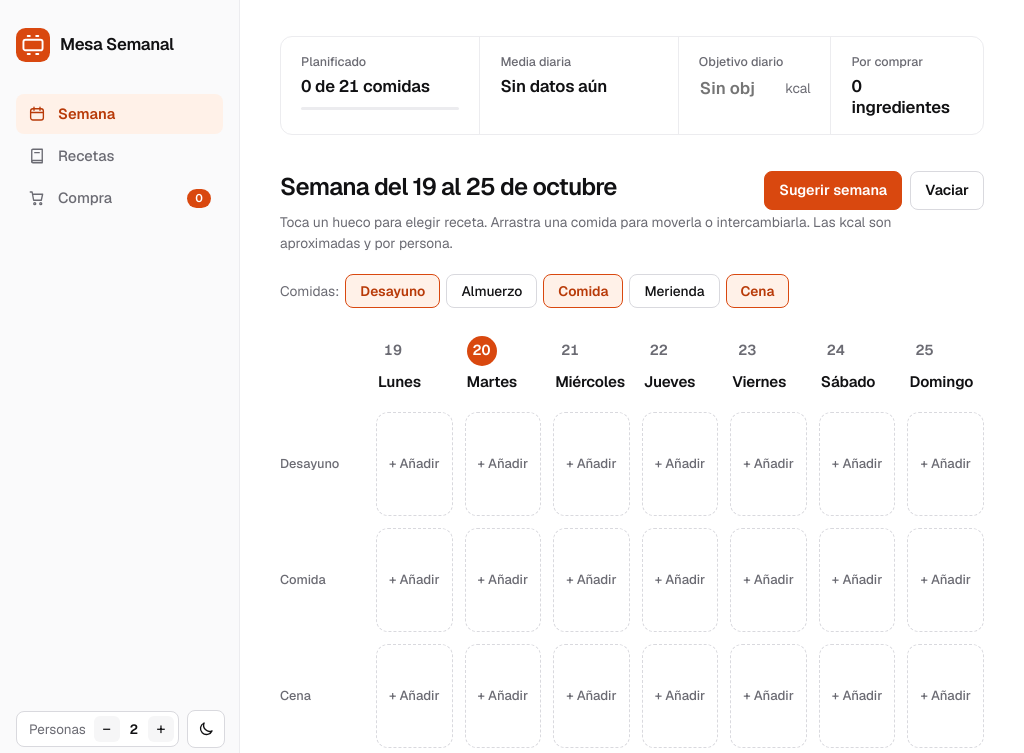
Semana › con objetivo diario muestra el progreso del día y avisa si se supera
Type "300" into the number field labelled "Objetivo diario" at [735, 88], box [691,76,779,101]
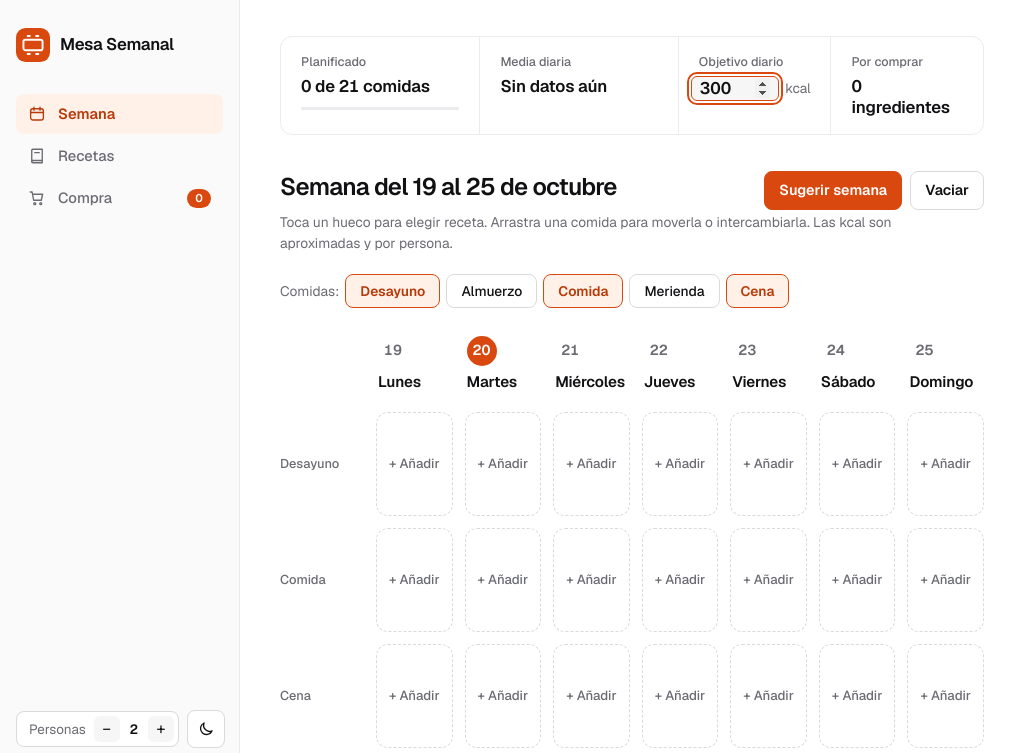
Click the 1st text "+ Añadir" at [414, 464], box [389,454,440,474]
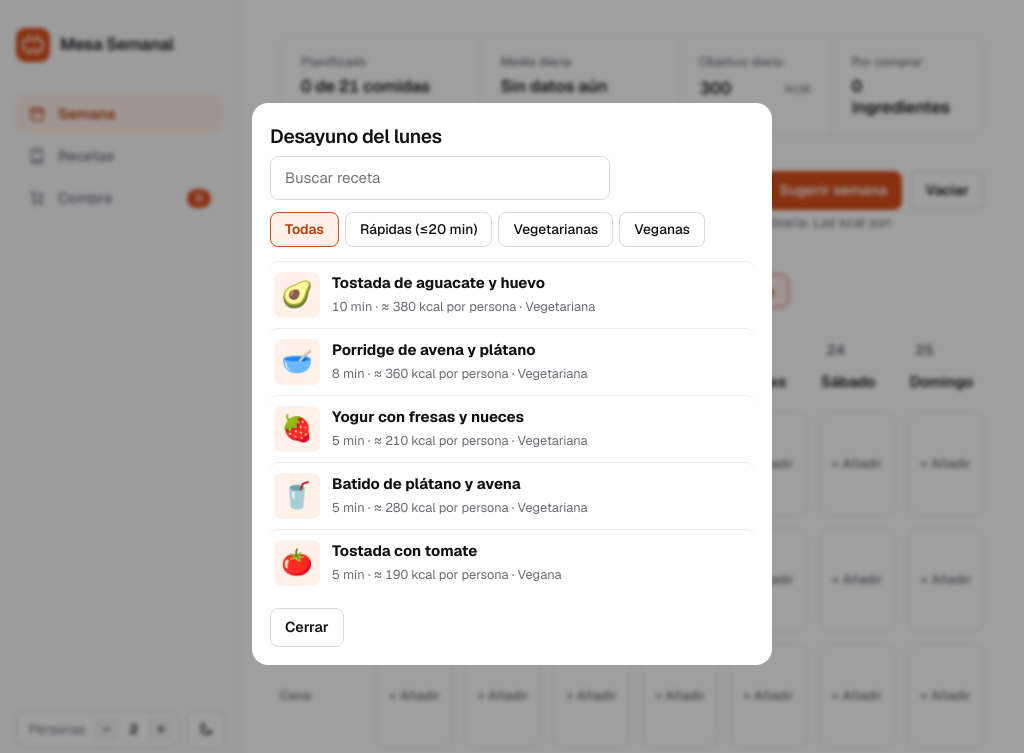
Click the text "Tostada de aguacate y huevo" at [438, 283], box [332,273,545,292]
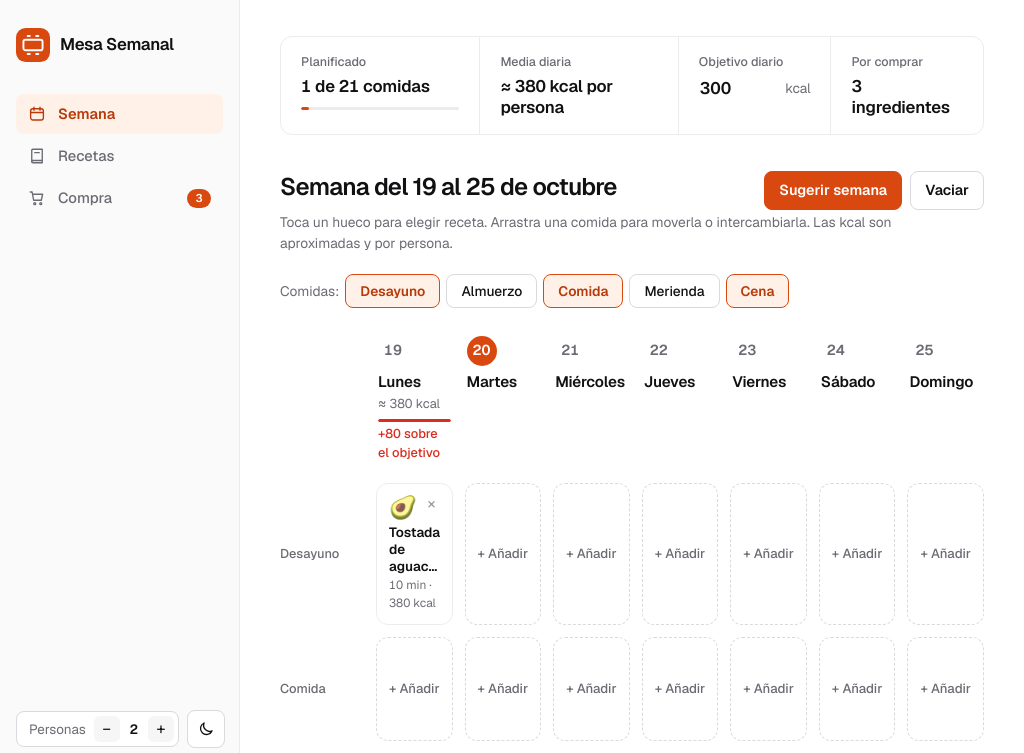
Check: the text "+80 sobre el objetivo" is shown, box [378,424,451,463]
